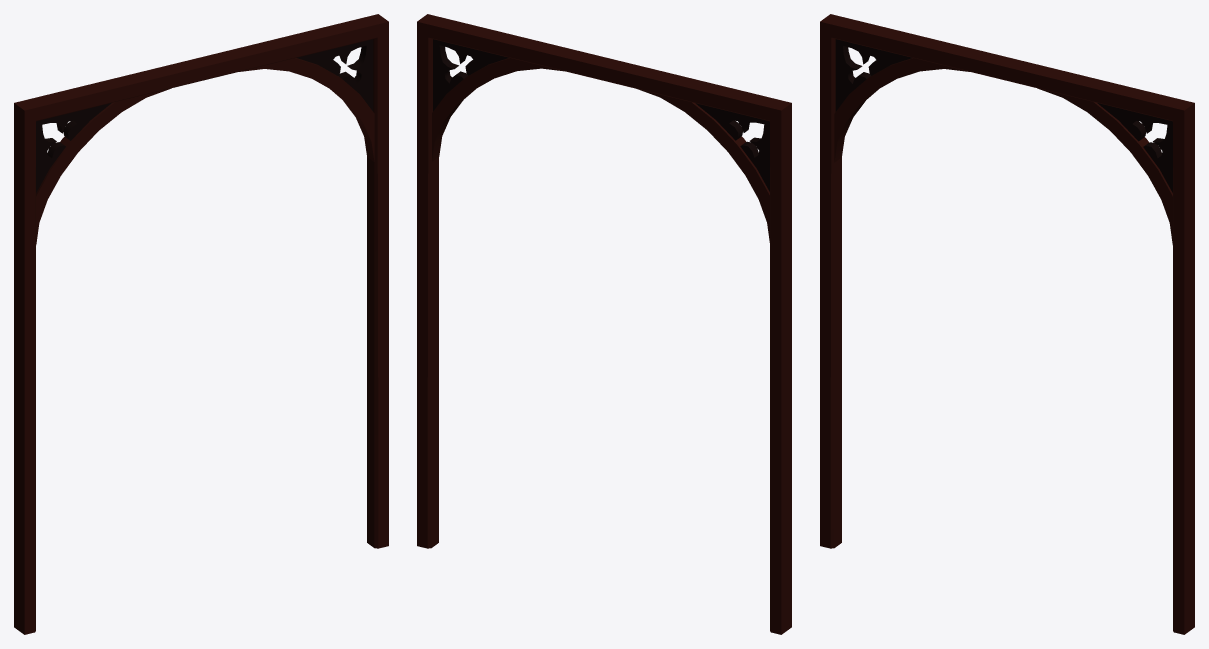
Rendered from Arch.FBX.
The picture shows the model from 3 angles, left to right: view 1: azimuth 30°, elevation 25°; view 2: azimuth 150°, elevation 25°; view 3: azimuth 330°, elevation 25°; orthographic projection.
Visible parts, largest first — view 1: Arch; view 2: Arch; view 3: Arch.
Part boxes in pixels (x1,y1,x2,y2): Arch: (14, 14, 388, 634); Arch: (417, 14, 791, 634); Arch: (820, 14, 1194, 634).
Size of the model in its own units: 78.74 by 108 by 3.94.
